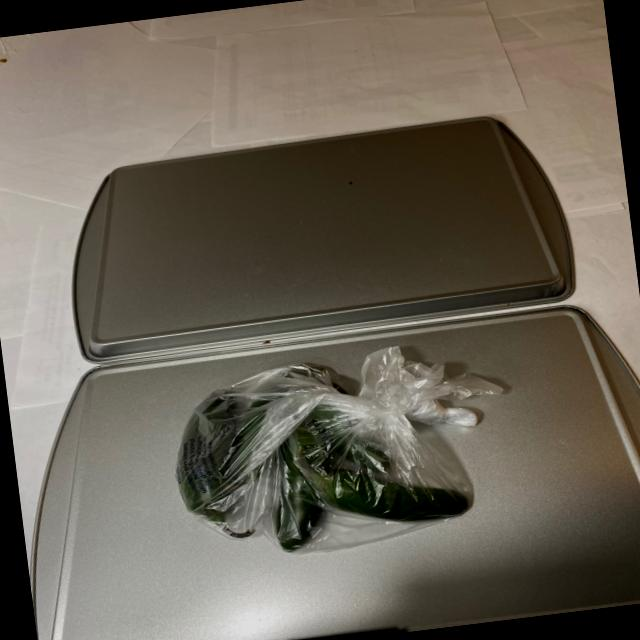chilli: (160, 342, 475, 556)
